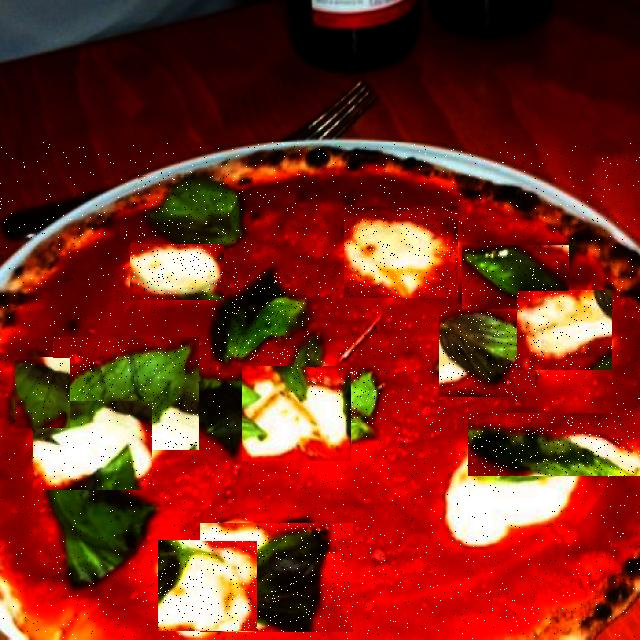Basil: (200, 524, 353, 632), (53, 338, 199, 450), (468, 414, 640, 476), (212, 272, 312, 362), (439, 309, 535, 397), (138, 176, 246, 248), (462, 247, 569, 310), (15, 358, 70, 428), (337, 367, 386, 423), (291, 338, 323, 397)
Cheese: (33, 401, 152, 490), (344, 207, 458, 298), (242, 367, 351, 461), (158, 541, 257, 631), (517, 291, 612, 370), (130, 244, 224, 300)
Pizza: (0, 143, 640, 639)
